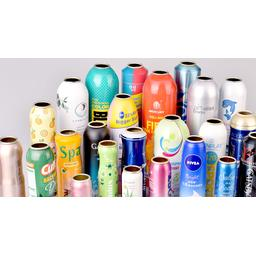metal: (171, 131, 218, 196), (52, 128, 90, 195), (51, 76, 96, 131), (17, 137, 57, 197), (23, 100, 62, 147), (208, 150, 242, 202), (0, 130, 23, 202), (117, 162, 149, 202), (147, 155, 172, 198)
